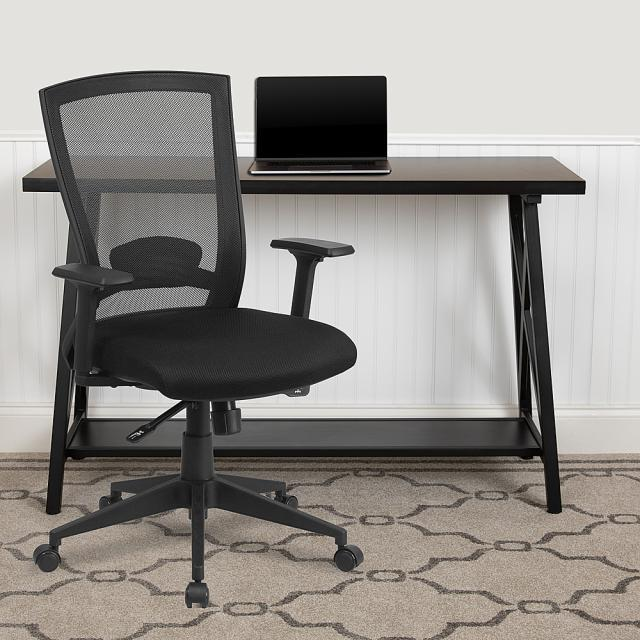chair: (21, 49, 373, 640)
